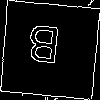B: (24, 25, 61, 74)
